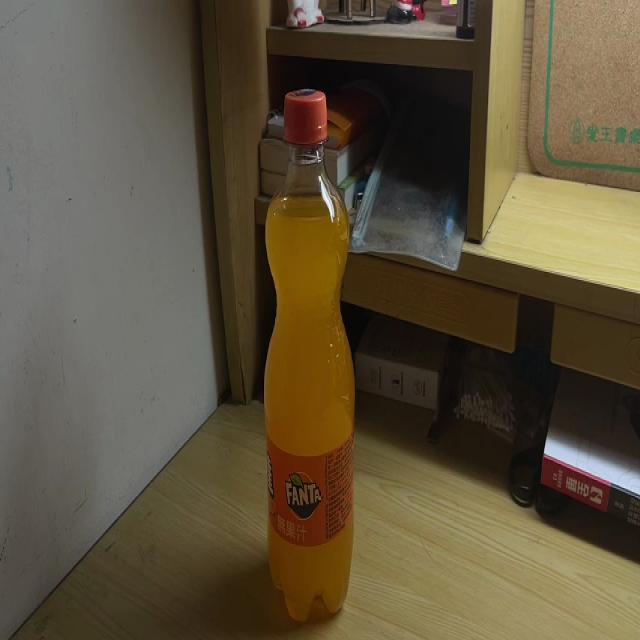Fanta: (262, 88, 356, 619)
